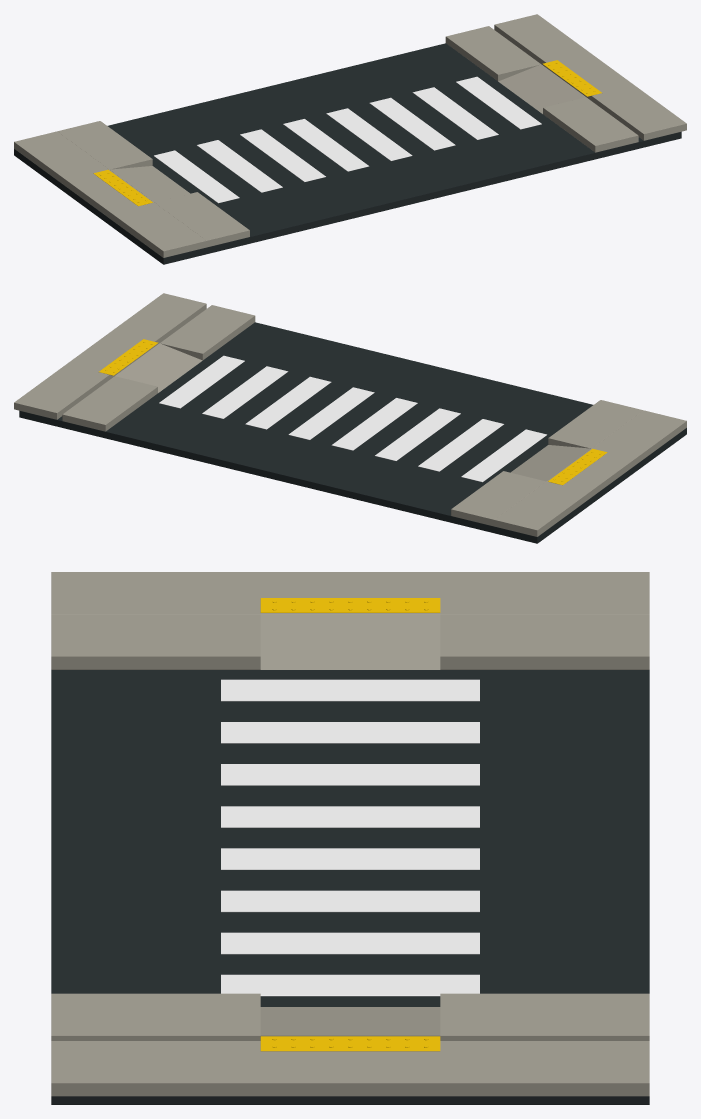
Rendered from source-edit.glb.
The picture shows the model from 3 angles, top to bottom: view 1: azimuth 30°, elevation 25°; view 2: azimuth 150°, elevation 25°; view 3: azimuth 270°, elevation 25°; orthographic projection. The views are drawn at different scales.
Parts seen in each view (by area): view 1: Road_Base, Back_Sidewalk.001, Back_Sidewalk, Sidewalk_Wing.002, Sidewalk_Wing.003, Sidewalk_Wing, Sidewalk_Wing.001, Kerb_Ramp.001, Kerb_Ramp, Zebra_Stripe.007, Zebra_Stripe.005, Zebra_Stripe.006 (+7 smaller); view 2: Road_Base, Back_Sidewalk.001, Back_Sidewalk, Sidewalk_Wing.003, Sidewalk_Wing.002, Sidewalk_Wing.001, Sidewalk_Wing, Kerb_Ramp.001, Kerb_Ramp, Zebra_Stripe.007, Zebra_Stripe.005, Zebra_Stripe.006 (+7 smaller); view 3: Road_Base, Back_Sidewalk, Back_Sidewalk.001, Sidewalk_Wing, Sidewalk_Wing.001, Kerb_Ramp, Sidewalk_Wing.002, Sidewalk_Wing.003, Zebra_Stripe, Zebra_Stripe.005, Zebra_Stripe.006, Zebra_Stripe.007 (+7 smaller).
Boxes of the visible parts, x1,y1,x2,y2 form: Road_Base: (14, 43, 681, 264); Back_Sidewalk.001: (14, 131, 206, 257); Back_Sidewalk: (494, 14, 686, 140); Sidewalk_Wing.002: (543, 97, 638, 152); Sidewalk_Wing.003: (445, 26, 540, 81); Sidewalk_Wing: (154, 192, 249, 247); Sidewalk_Wing.001: (57, 121, 152, 169); Kerb_Ramp.001: (498, 64, 585, 113); Kerb_Ramp: (110, 166, 189, 202); Zebra_Stripe.007: (456, 76, 541, 129); Zebra_Stripe.005: (369, 97, 455, 150); Zebra_Stripe.006: (412, 87, 498, 139); Road_Base: (19, 322, 686, 543); Back_Sidewalk.001: (494, 410, 686, 536); Back_Sidewalk: (14, 293, 206, 419); Sidewalk_Wing.003: (62, 376, 157, 431); Sidewalk_Wing.002: (160, 305, 255, 360); Sidewalk_Wing.001: (451, 471, 546, 526); Sidewalk_Wing: (548, 400, 643, 448); Kerb_Ramp.001: (115, 343, 202, 392); Kerb_Ramp: (511, 445, 590, 481); Zebra_Stripe.007: (159, 355, 244, 408); Zebra_Stripe.005: (245, 376, 331, 429); Zebra_Stripe.006: (202, 366, 288, 418); Road_Base: (51, 670, 649, 1104); Back_Sidewalk: (51, 1041, 649, 1096); Back_Sidewalk.001: (51, 572, 649, 614); Sidewalk_Wing: (51, 614, 260, 669); Sidewalk_Wing.001: (440, 614, 649, 669); Kerb_Ramp: (260, 614, 440, 669); Sidewalk_Wing.002: (51, 993, 260, 1040); Sidewalk_Wing.003: (440, 993, 649, 1040); Zebra_Stripe: (221, 679, 479, 701); Zebra_Stripe.005: (221, 890, 479, 912); Zebra_Stripe.006: (221, 932, 479, 954); Zebra_Stripe.007: (221, 974, 479, 996).
Bounding box in the file's own units: 12.12 × 0.312 × 6.
